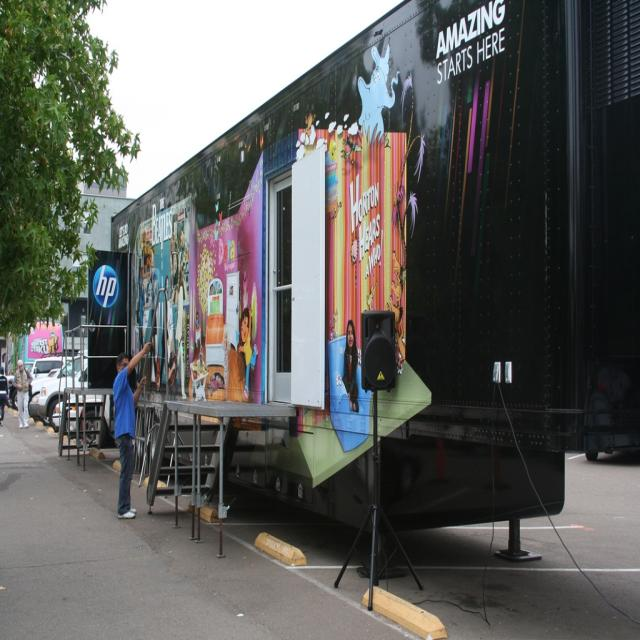HP: (94, 264, 121, 312)
